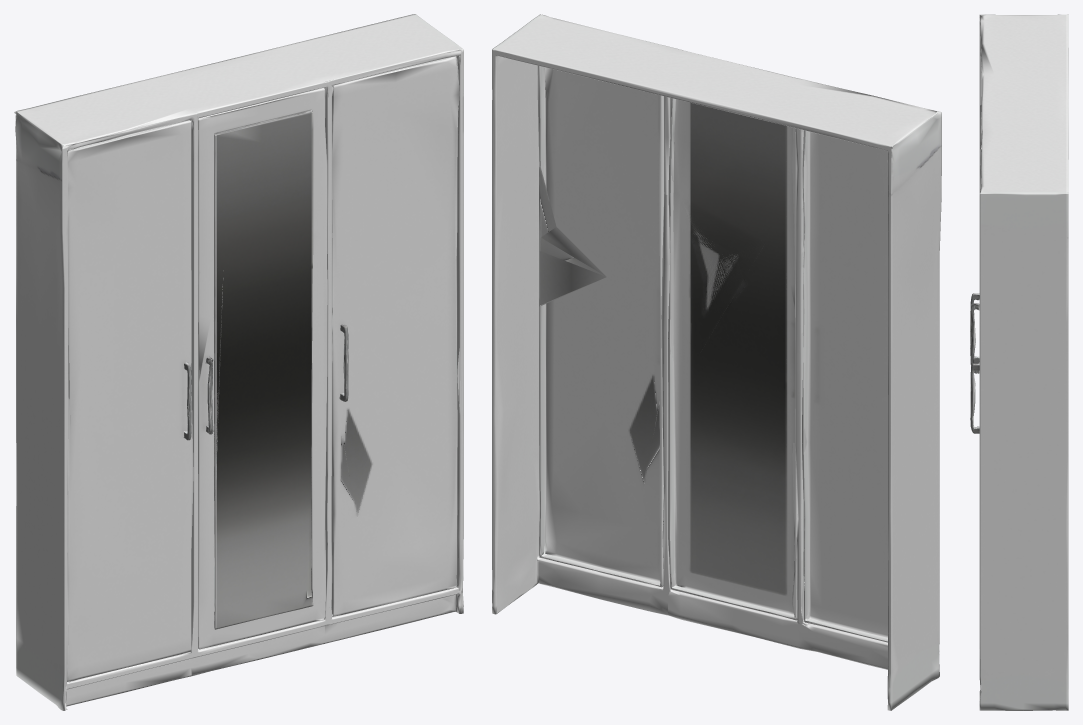
Rendered from Meshy_AI_White_Wardrobe_with_M_1020124711_texture.glb.
3 renders of one model, left to right at view 1: azimuth 30°, elevation 25°; view 2: azimuth 150°, elevation 25°; view 3: azimuth 270°, elevation 25°, orthographic. The views are drawn at different scales.
Bounding box in the file's own units: 0.7065 × 0.9502 × 0.1641.
1 material, 1 textured.
